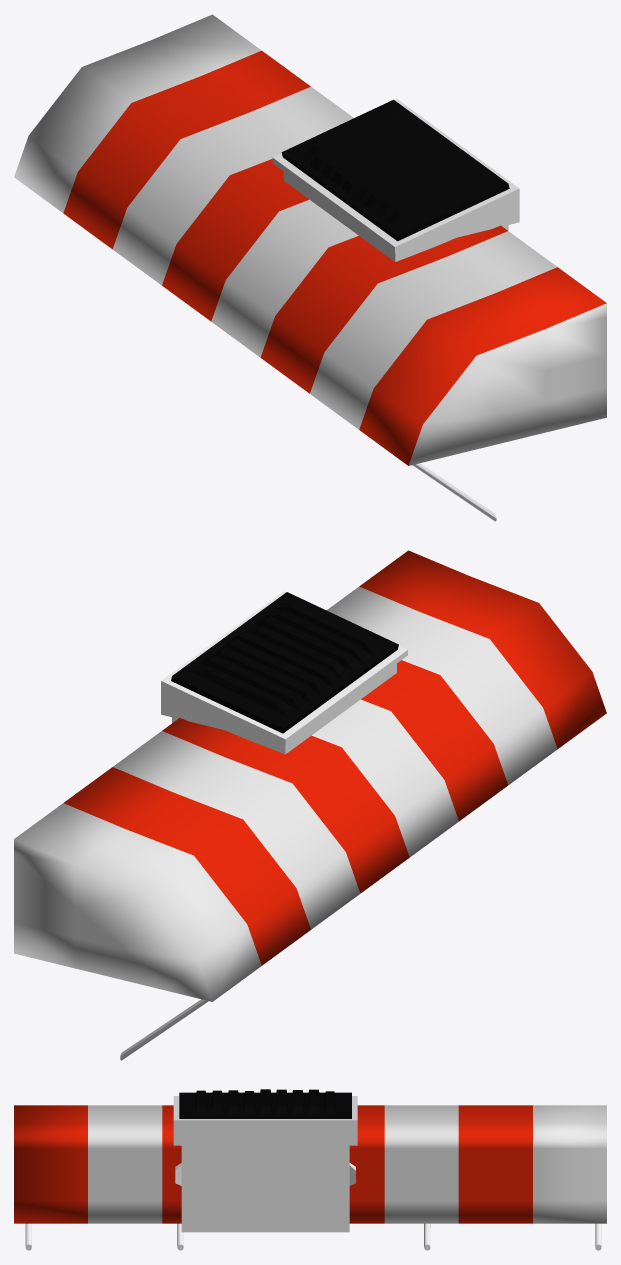
Rendered from OutdoorProps.fbx.
The picture shows the model from 3 angles, top to bottom: view 1: azimuth 30°, elevation 25°; view 2: azimuth 150°, elevation 25°; view 3: azimuth 270°, elevation 25°; orthographic projection. The views are drawn at different scales.
Parts seen in each view (by area): view 1: Door Shingle 1, Trash Bin 2; view 2: Door Shingle 1, Trash Bin 2; view 3: Door Shingle 1, Trash Bin 2.
Boxes of the visible parts, x1,y1,x2,y2 form: Door Shingle 1: (14, 14, 606, 521); Trash Bin 2: (272, 99, 519, 261); Door Shingle 1: (14, 550, 606, 1060); Trash Bin 2: (161, 591, 407, 754); Door Shingle 1: (14, 1105, 606, 1250); Trash Bin 2: (173, 1089, 357, 1232).
Size of the model in its own units: 494 by 522 by 1552.
